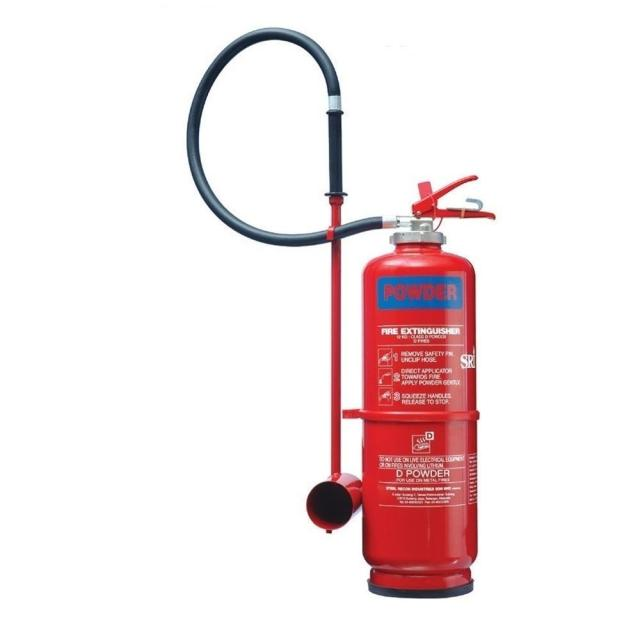fire_extinguisher: (180, 22, 502, 603)
